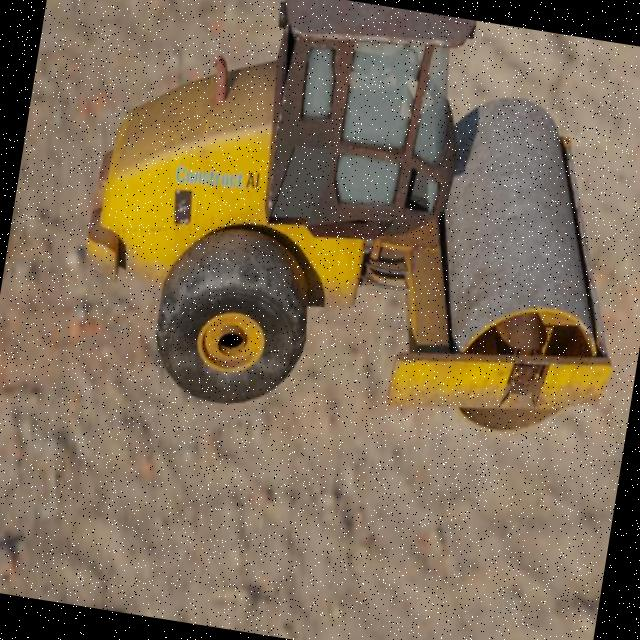Roller: (63, 0, 640, 464)
